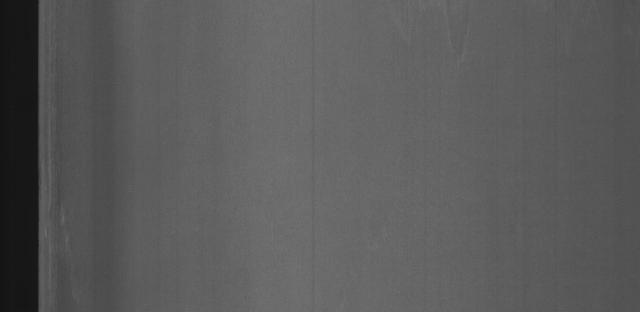silk_spot: (41, 100, 75, 284)
